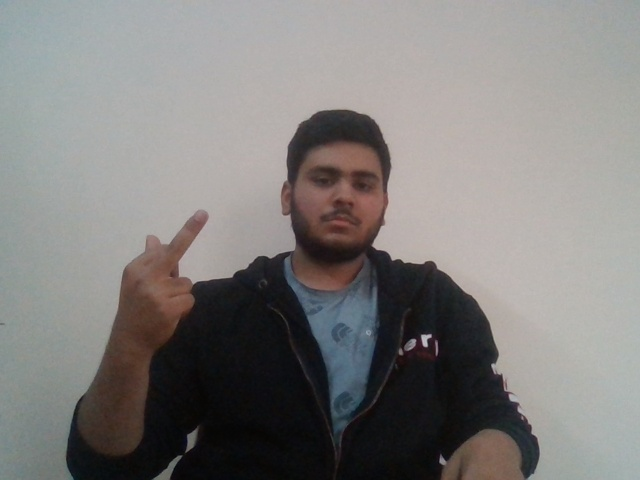Hello: (116, 198, 215, 335)
